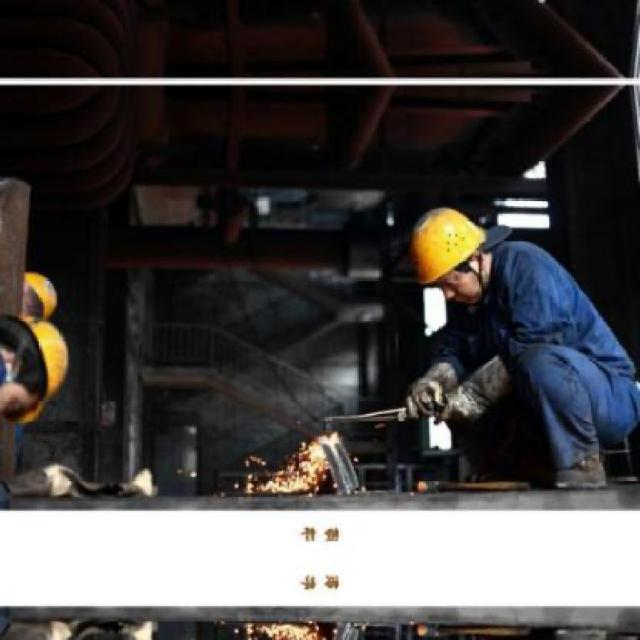2: (371, 206, 634, 488)
helmet: (402, 200, 498, 303), (1, 314, 70, 428), (12, 268, 62, 324)
